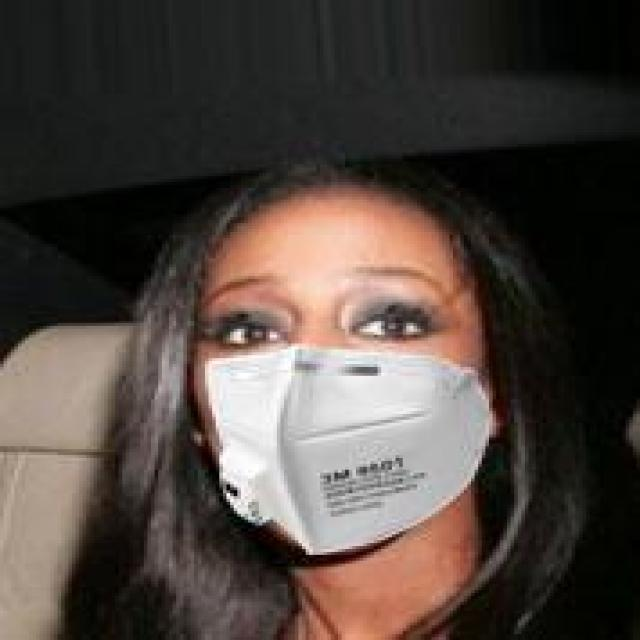mask: (104, 112, 568, 581)
